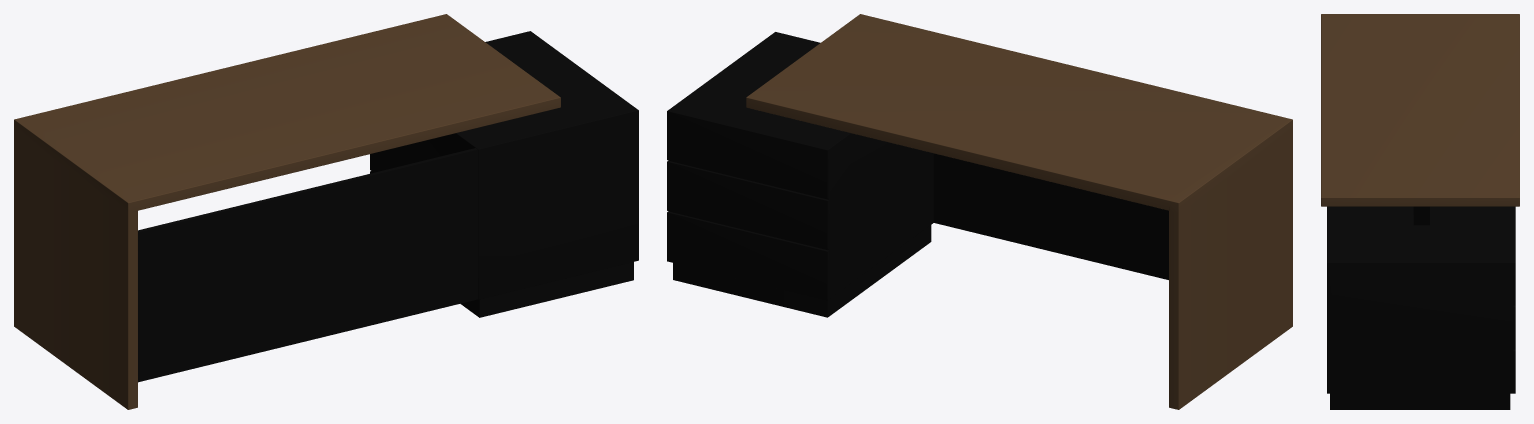
Rendered from table1.FBX.
3 renders of one model, left to right at view 1: azimuth 30°, elevation 25°; view 2: azimuth 150°, elevation 25°; view 3: azimuth 270°, elevation 25°, orthographic. The views are drawn at different scales.
Visible parts, largest first — view 1: tumba, stoleshnica, cokol; view 2: stoleshnica, tumba, yashik1, yashik3, yashik2, cokol; view 3: stoleshnica, tumba, cokol, truba, yashik1.
Boxes of the visible parts, <box> form: tumba: <box>138,32,638,382</box>; stoleshnica: <box>14,14,560,409</box>; cokol: <box>460,262,633,317</box>; stoleshnica: <box>746,14,1292,409</box>; tumba: <box>668,32,1168,299</box>; yashik1: <box>667,110,828,199</box>; yashik3: <box>667,211,828,300</box>; yashik2: <box>667,161,828,249</box>; cokol: <box>673,225,931,317</box>; stoleshnica: <box>1321,14,1519,206</box>; tumba: <box>1327,206,1513,393</box>; cokol: <box>1330,393,1510,409</box>; truba: <box>1413,206,1429,225</box>; yashik1: <box>1513,206,1515,305</box>.
Bounding box in the file's own units: 2079 × 800 × 800.
